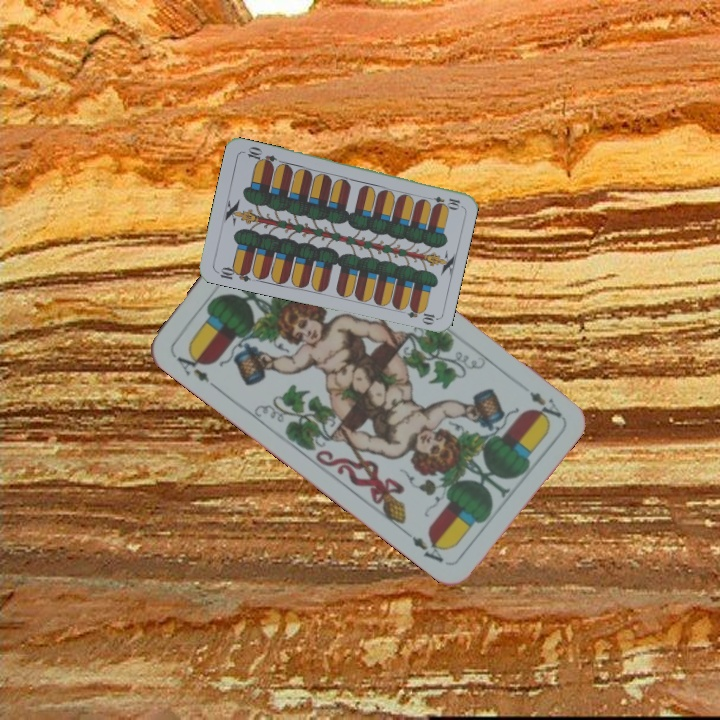E10: (212, 263, 253, 284), (422, 192, 462, 210)
EA: (170, 346, 220, 392), (525, 387, 565, 421)
